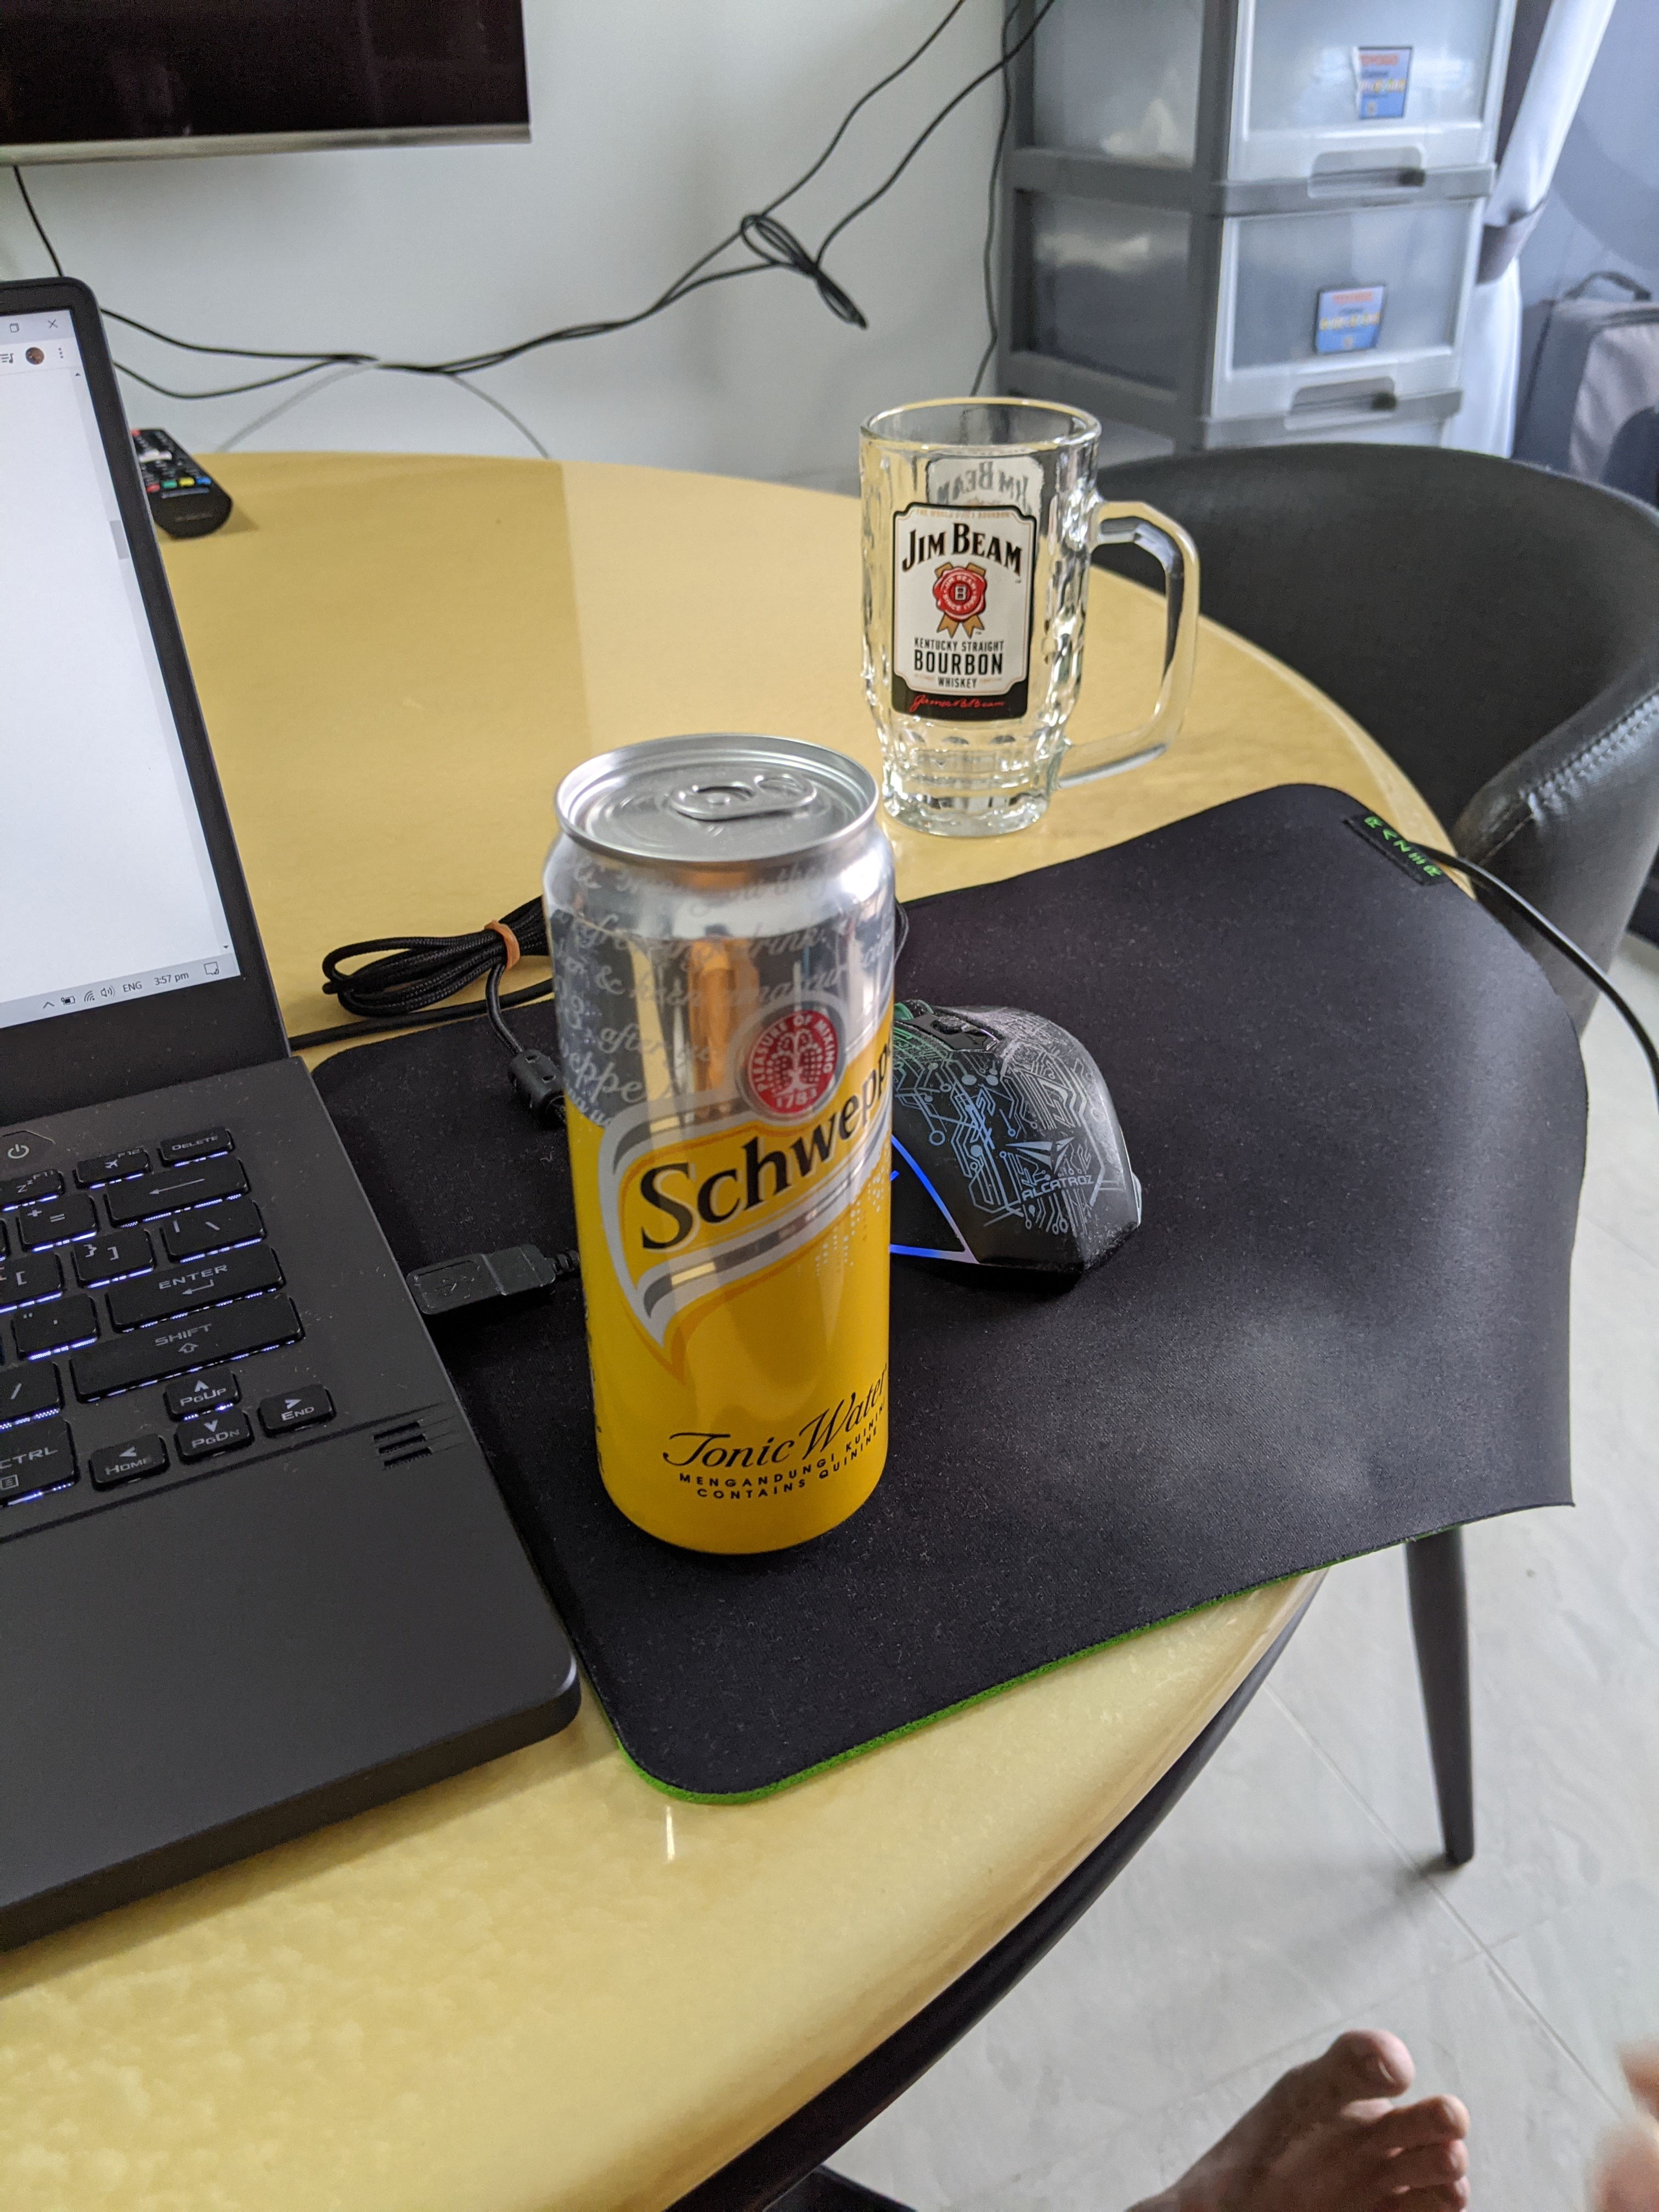schweppes drink can tonic water: (519, 702, 936, 1587)
